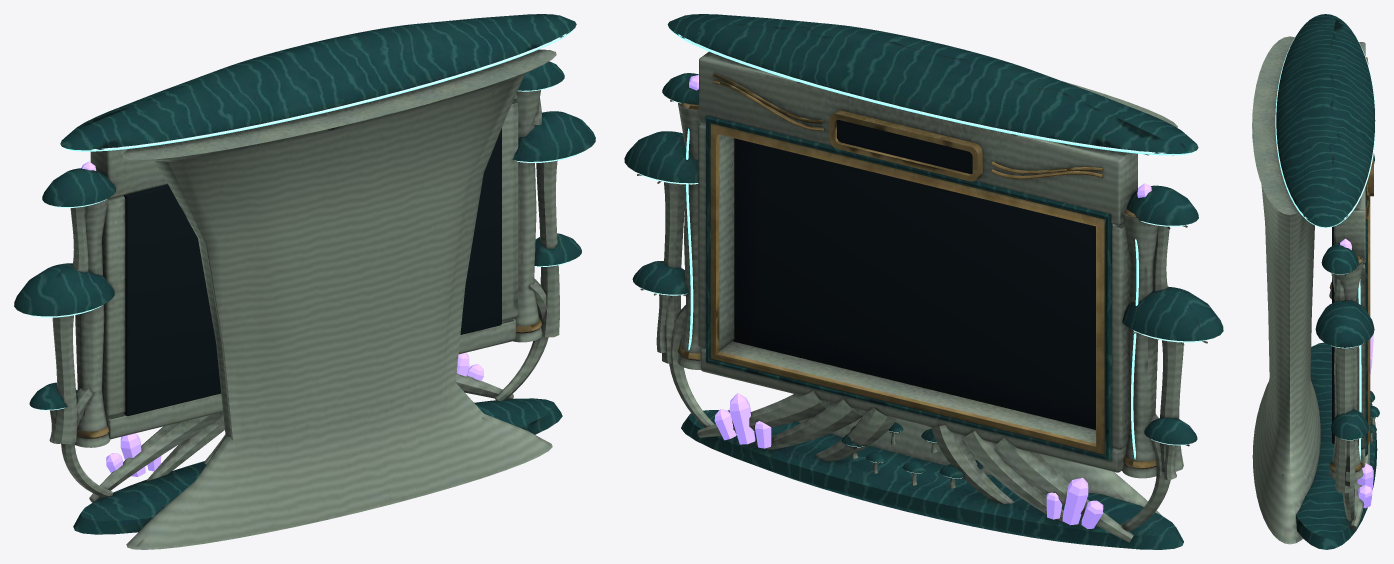
3 renders of one model, left to right at view 1: azimuth 30°, elevation 25°; view 2: azimuth 150°, elevation 25°; view 3: azimuth 270°, elevation 25°, orthographic. The views are drawn at different scales.
Visible parts, largest first — view 1: Soft_fungal_ivory, Deep_cavern_teal, Unlit_cavern, glow_living_gills, glow_violet_minerals; view 2: Unlit_cavern, Soft_fungal_ivory, Deep_cavern_teal, Aged_botanical_bronze, glow_violet_minerals, glow_living_gills; view 3: Soft_fungal_ivory, Deep_cavern_teal, Aged_botanical_bronze, glow_living_gills, glow_violet_minerals, Unlit_cavern.
Boxes of the visible parts, x1,y1,x2,y2 form: Soft_fungal_ivory: (49, 49, 559, 549); Deep_cavern_teal: (14, 14, 595, 534); Unlit_cavern: (123, 128, 501, 416); glow_living_gills: (26, 29, 583, 410); glow_violet_minerals: (81, 161, 483, 476); Unlit_cavern: (733, 120, 1095, 429); Soft_fungal_ivory: (637, 51, 1207, 542); Deep_cavern_teal: (624, 14, 1223, 549); Aged_botanical_bronze: (678, 73, 1156, 468); glow_violet_minerals: (689, 75, 1151, 528); glow_living_gills: (637, 29, 1211, 478); Soft_fungal_ivory: (1252, 36, 1378, 544); Deep_cavern_teal: (1276, 14, 1379, 549); Aged_botanical_bronze: (1329, 57, 1373, 472); glow_living_gills: (1275, 33, 1375, 460); glow_violet_minerals: (1340, 238, 1373, 508); Unlit_cavern: (1332, 226, 1334, 443).
Bounding box in the file's own units: 12.8 × 9.2 × 2.91.
Materials: 6 (4 with a texture image).
